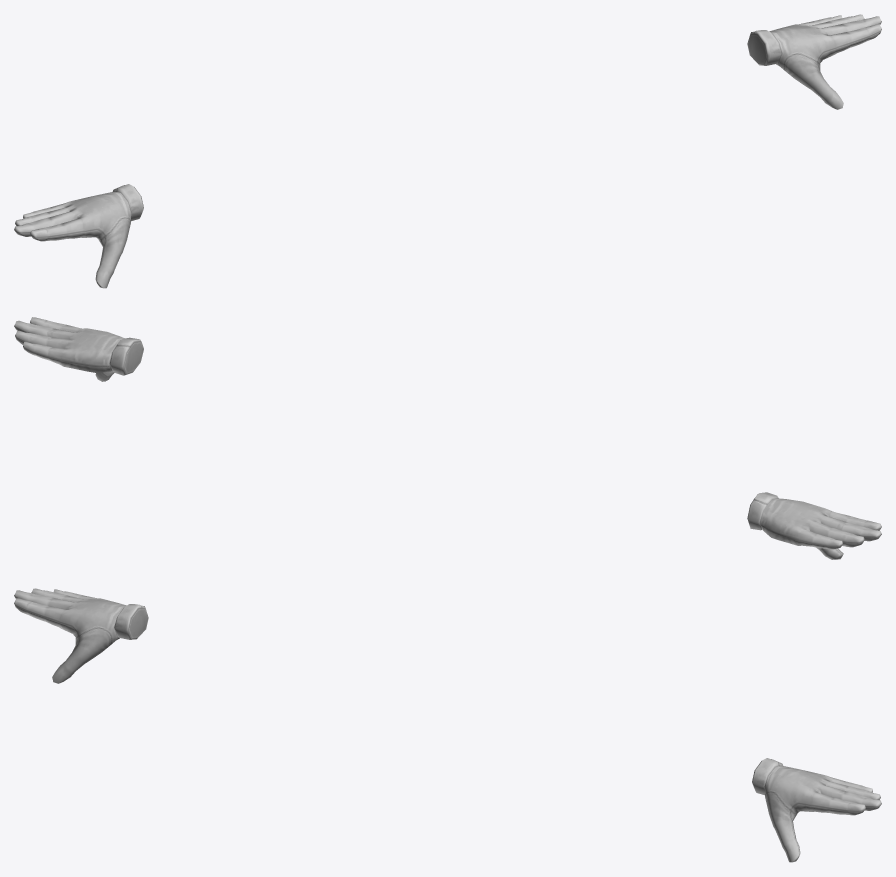
File: p0_glv1007_00_glv00.gltf
3 views of the same model, one above another, from view 1: azimuth 30°, elevation 25°; view 2: azimuth 150°, elevation 25°; view 3: azimuth 330°, elevation 25° (orthographic).
Visible parts, largest first — view 1: glv00_glove_mesh_shape:glove; view 2: glv00_glove_mesh_shape:glove; view 3: glv00_glove_mesh_shape:glove.
Part boxes in pixels (x1,y1,x2,y2): glv00_glove_mesh_shape:glove: (14, 14, 881, 288); glv00_glove_mesh_shape:glove: (14, 317, 881, 559); glv00_glove_mesh_shape:glove: (14, 588, 881, 862).
Size of what is drawn, in the model's own units: 1.36 by 0.1071 by 0.1186.
Materials: 1 (1 with a texture image).
